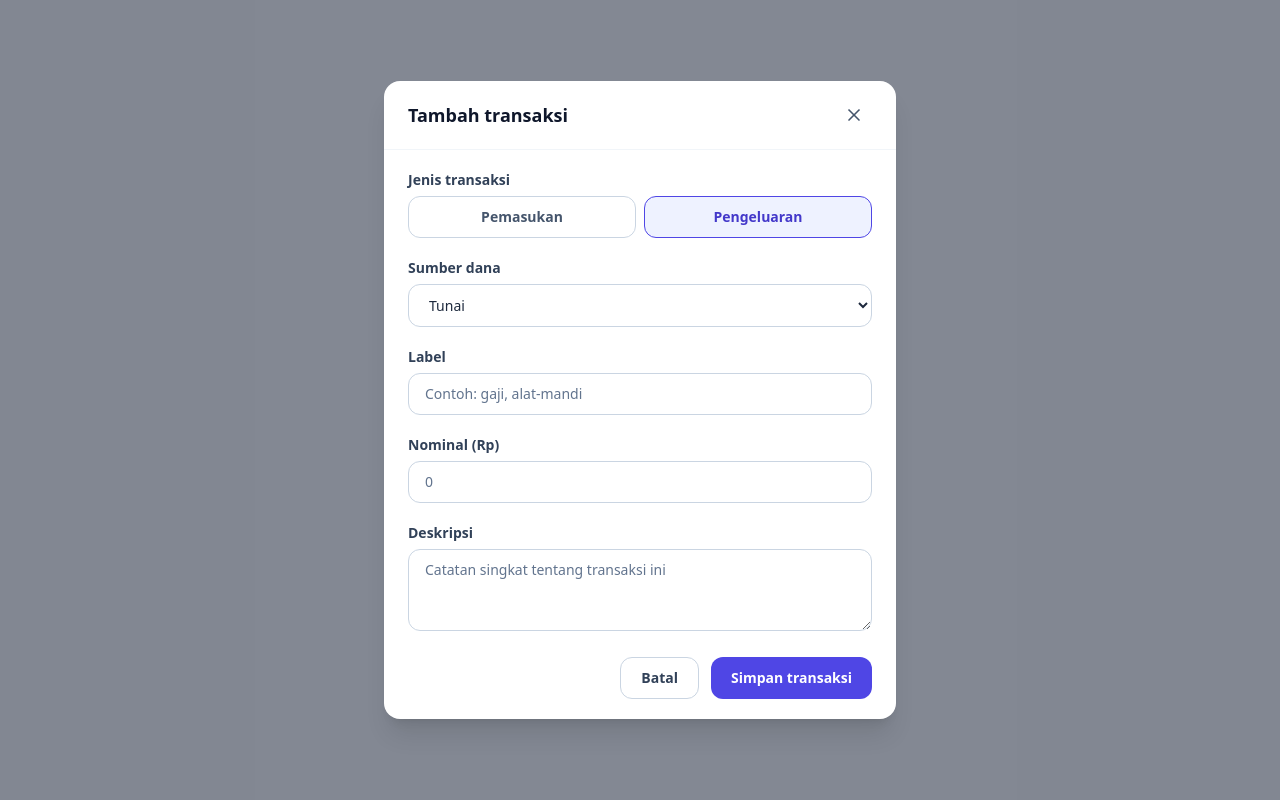
Scenario: CashFlowFormModal › validasi › menolak saat nominal kosong
Type "gaji" into the field with id "cashflow-label" at (640, 394), box [408,373,872,415]
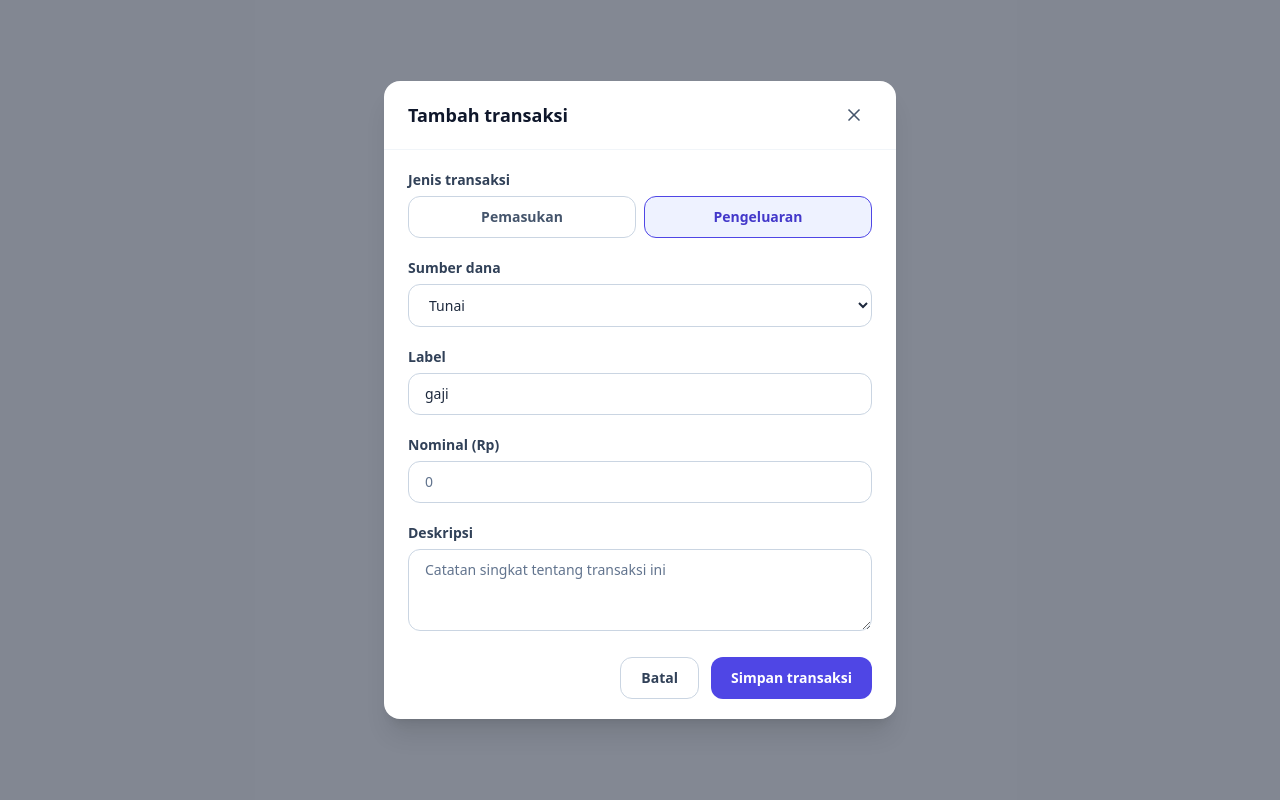
Type "Gaji bulanan" into the text box with id "cashflow-description" at (640, 590), box [408,549,872,631]
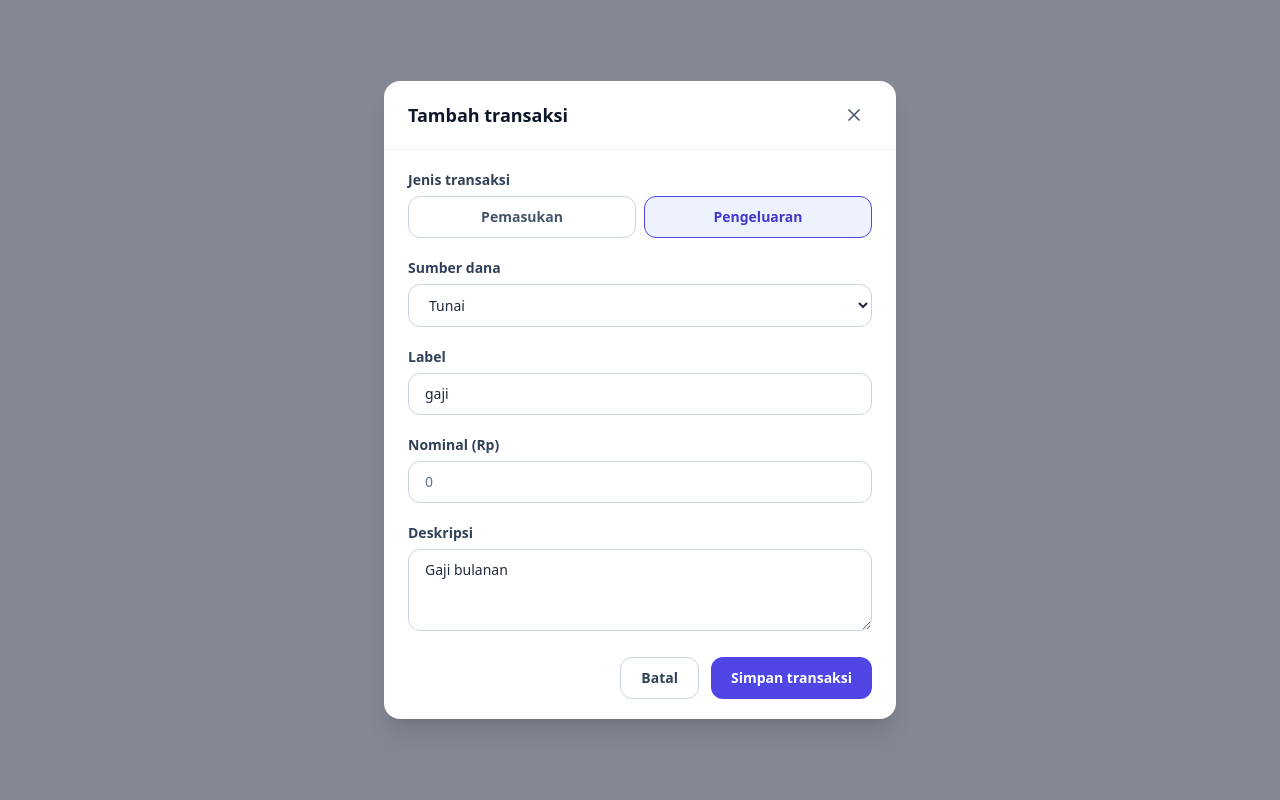
Submit the form, box [408,170,872,699]
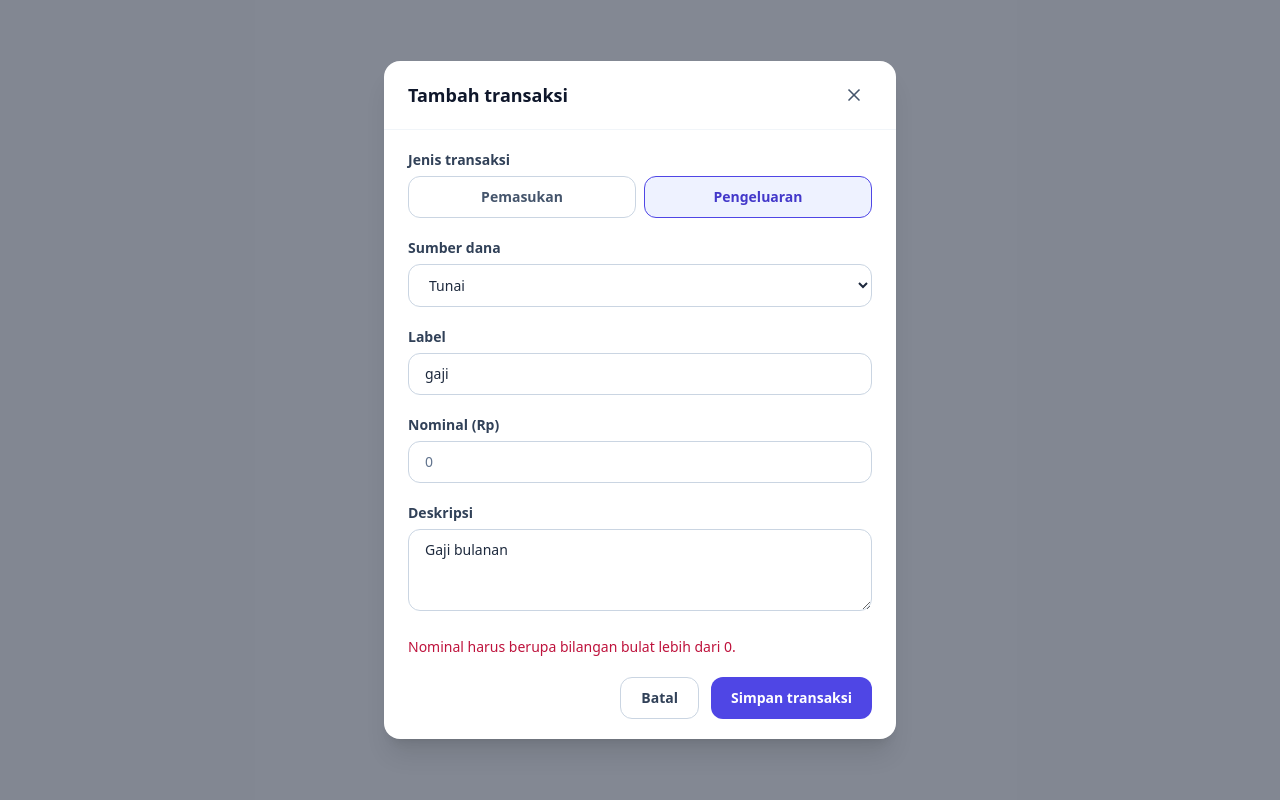
Now the message "Nominal harus berupa bilangan bulat lebih dari 0." is shown, box [408,637,736,656]
